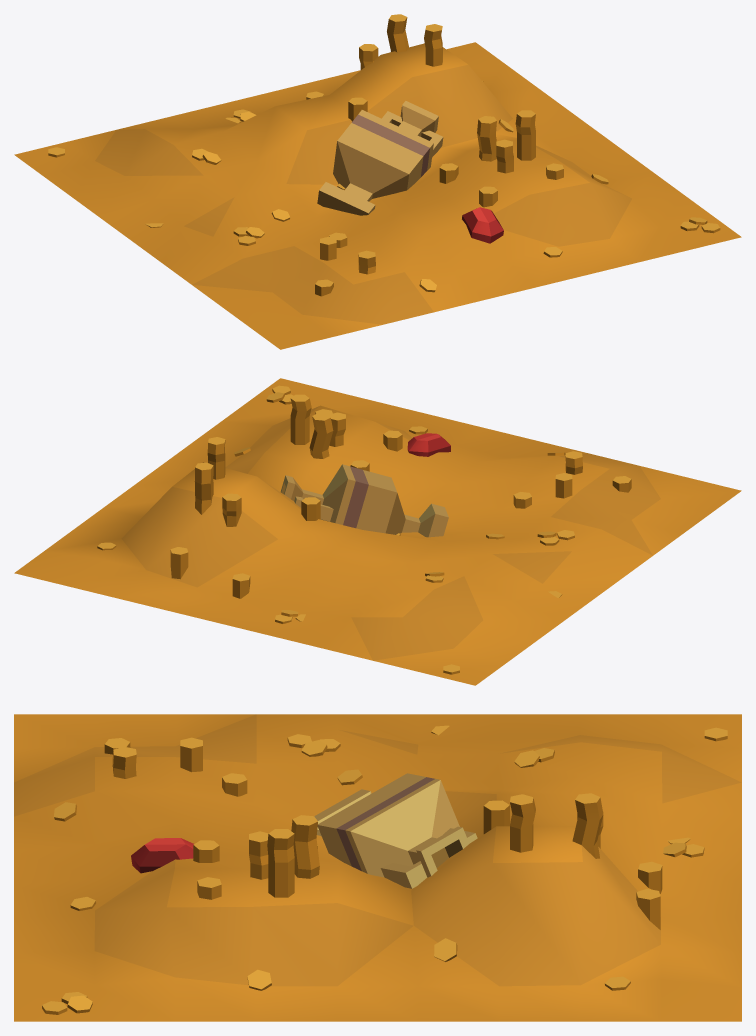
File: ST_Env_Gold_Flat_01.fbx
3 renders of one model, top to bottom at view 1: azimuth 30°, elevation 25°; view 2: azimuth 150°, elevation 25°; view 3: azimuth 270°, elevation 25°, orthographic. The views are drawn at different scales.
Parts seen in each view (by area): view 1: ST_Env_Gold_Flat_01; view 2: ST_Env_Gold_Flat_01; view 3: ST_Env_Gold_Flat_01.
Part boxes in pixels (x1,y1,x2,y2): ST_Env_Gold_Flat_01: [14, 14, 741, 349]; ST_Env_Gold_Flat_01: [14, 378, 741, 685]; ST_Env_Gold_Flat_01: [14, 714, 741, 1021].
Bounding box in the file's own units: 5 × 1.43 × 5.
